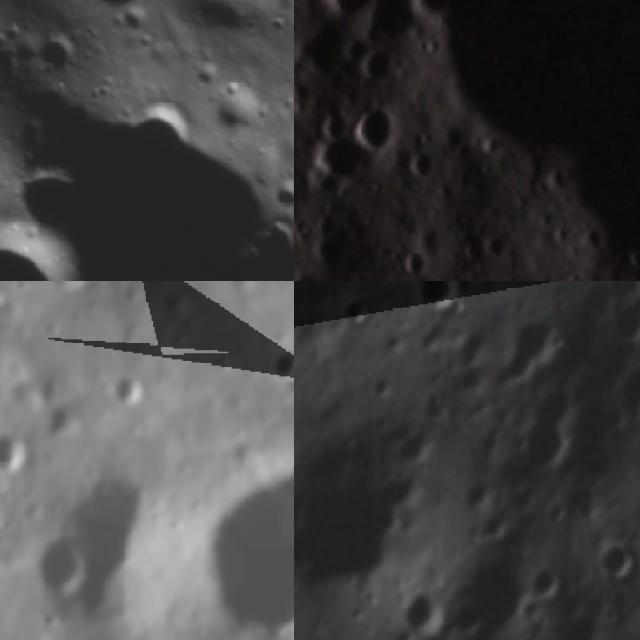crater: (294, 448, 424, 608), (191, 445, 294, 640), (65, 472, 157, 626), (498, 374, 594, 491), (0, 188, 107, 281), (192, 71, 285, 160), (494, 299, 581, 384), (299, 115, 378, 195), (345, 95, 410, 160), (28, 537, 92, 603), (26, 26, 87, 88), (597, 350, 640, 433), (408, 281, 483, 327), (392, 582, 451, 640), (356, 33, 416, 90), (257, 151, 294, 239), (523, 557, 576, 610), (78, 0, 167, 31), (590, 535, 640, 588), (599, 290, 640, 353), (336, 286, 386, 334), (399, 139, 445, 188), (456, 475, 500, 521), (112, 363, 151, 412), (47, 397, 85, 446), (294, 147, 319, 218), (310, 0, 387, 23), (394, 242, 439, 281), (0, 424, 28, 483), (260, 345, 294, 387), (47, 281, 95, 303), (294, 75, 307, 128), (294, 264, 325, 281), (0, 283, 6, 309)
